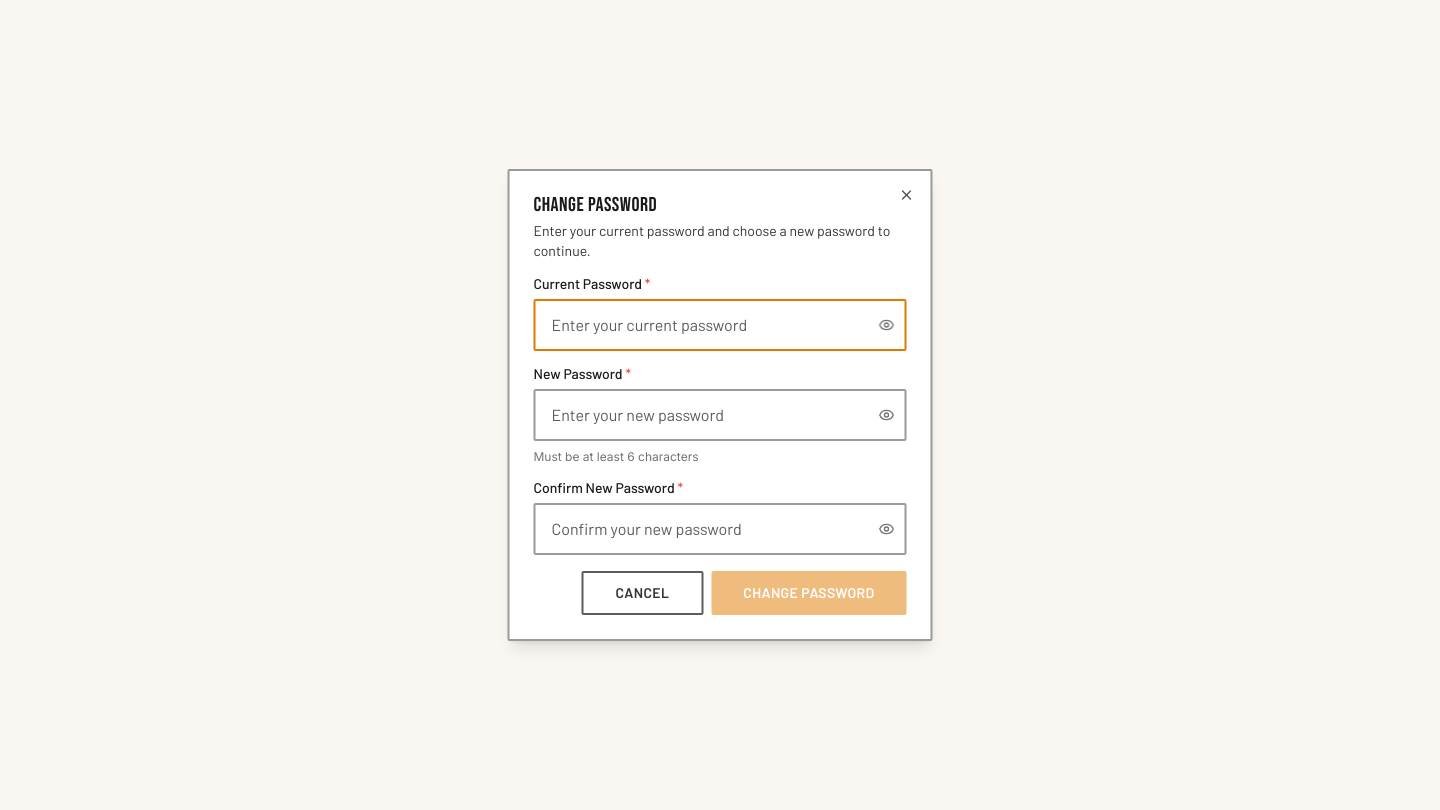
PasswordChangeForm › Form Interactions › should enable submit button when form is dirty and valid
expect the button "Change Password" is disabled: met, box [711, 571, 906, 615]
In the password field labelled "Current Password *": (720, 325) [534, 299, 906, 351], type "current"
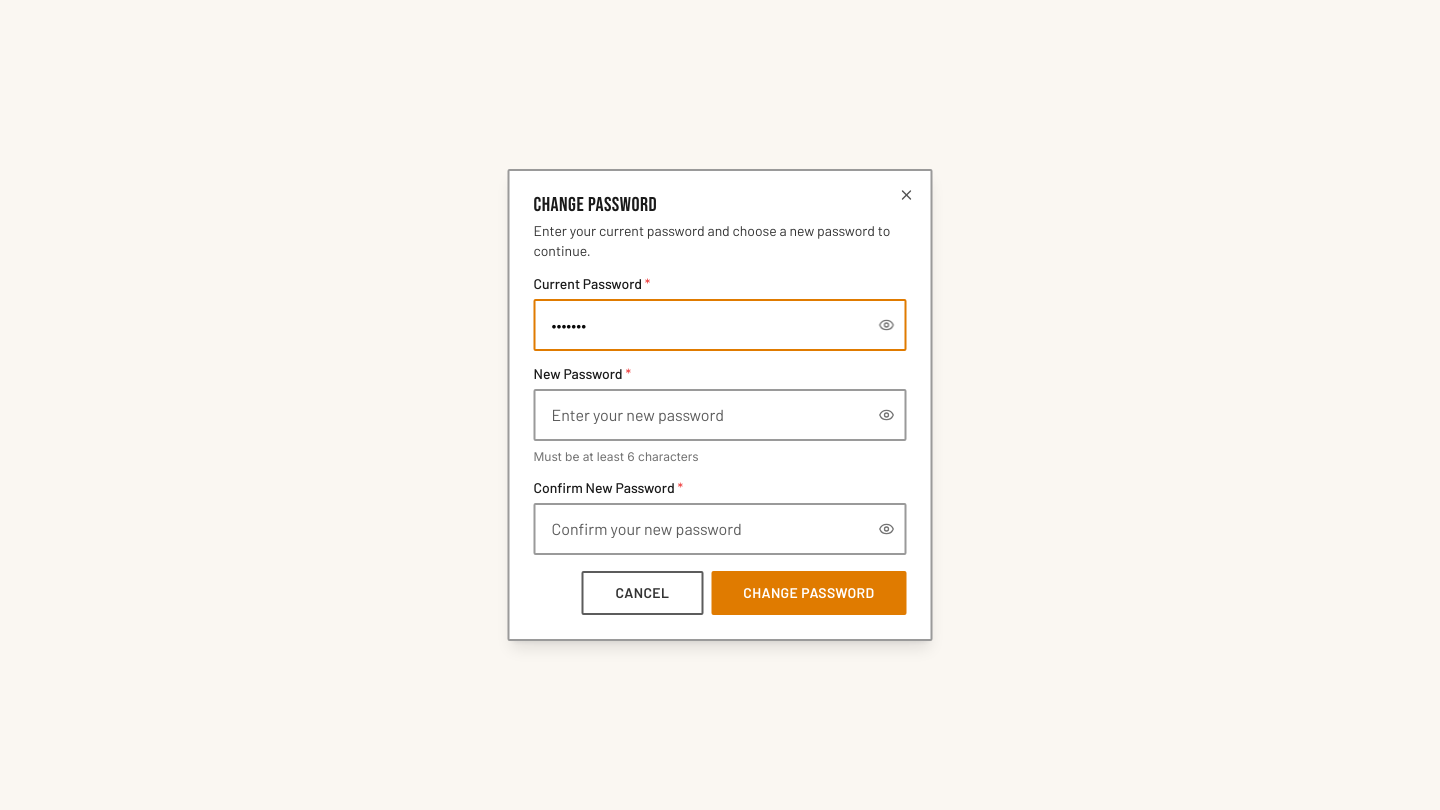
expect the button "Change Password" is enabled: met, box [711, 571, 906, 615]
